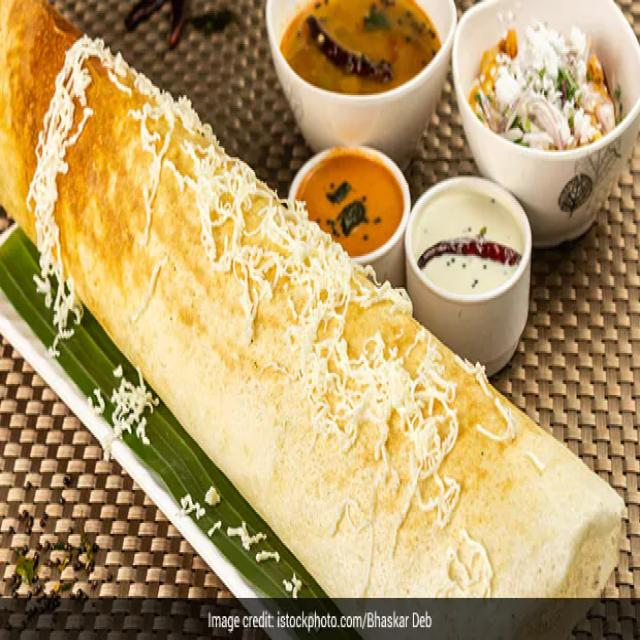chutney: (408, 170, 530, 311)
dosa: (0, 0, 626, 598)
